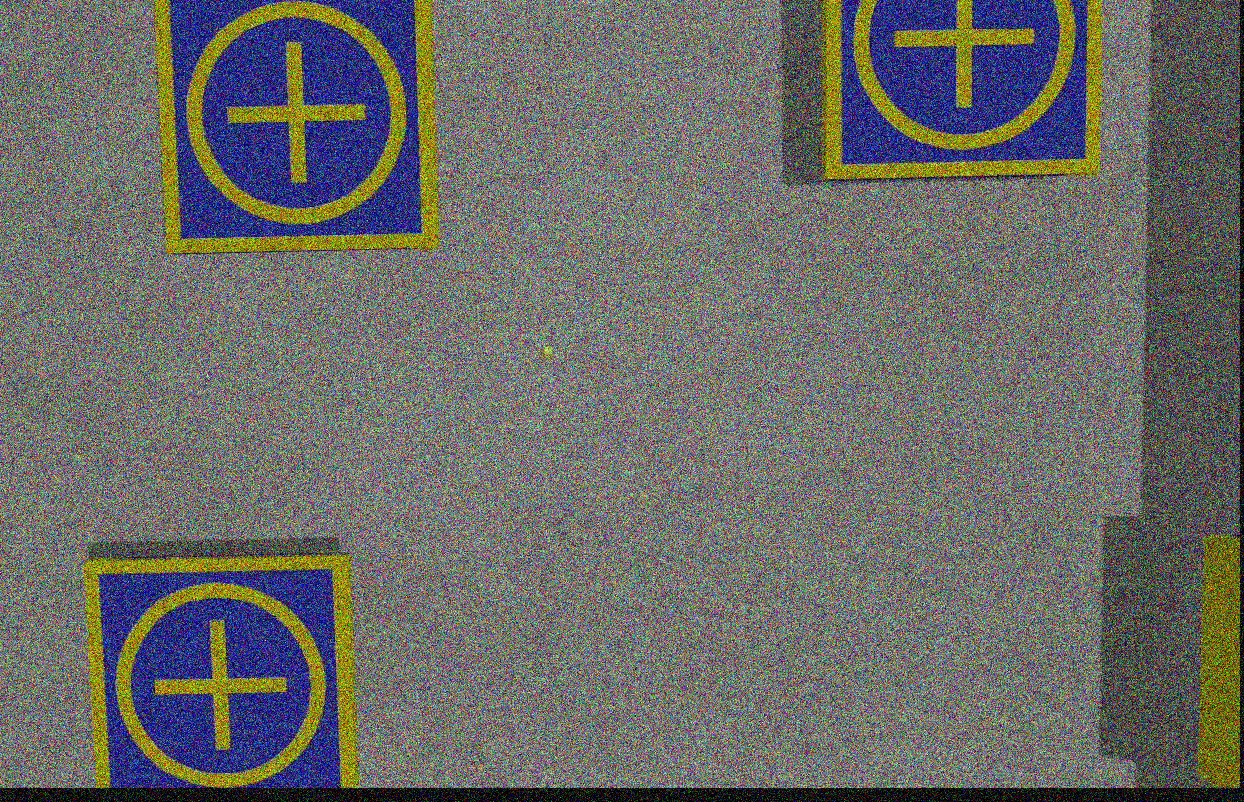small_base: (155, 1, 439, 256), (86, 552, 357, 791), (824, 1, 1102, 182)
